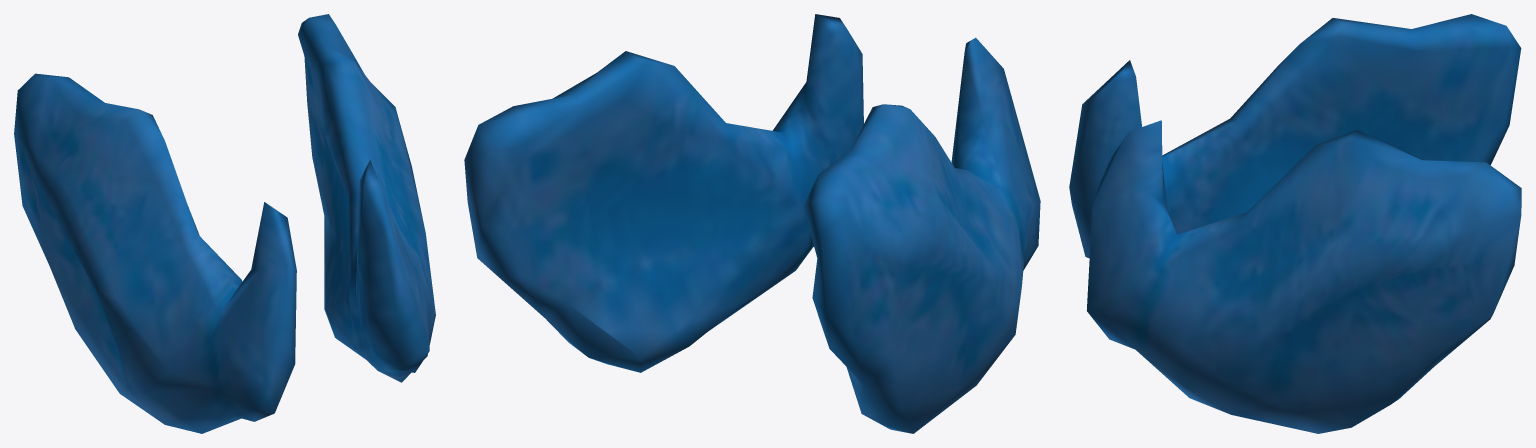
Rendered from Laryngeal_Cartilages_Arytenoids.glb.
3 views of the same model, side by side, from view 1: azimuth 30°, elevation 25°; view 2: azimuth 150°, elevation 25°; view 3: azimuth 270°, elevation 25° (orthographic). The views are drawn at different scales.
Visible parts, largest first — view 1: laryngeal_cartilages_arytenoids.001; view 2: laryngeal_cartilages_arytenoids.001; view 3: laryngeal_cartilages_arytenoids.001.
Boxes of the visible parts, x1=… form: laryngeal_cartilages_arytenoids.001: x1=14, y1=14, x2=435, y2=433; laryngeal_cartilages_arytenoids.001: x1=464, y1=14, x2=1040, y2=433; laryngeal_cartilages_arytenoids.001: x1=1069, y1=14, x2=1521, y2=433.
Bounding box in the file's own units: 0.0457 × 0.036 × 0.0494.
Materials: 1 (1 with a texture image).
